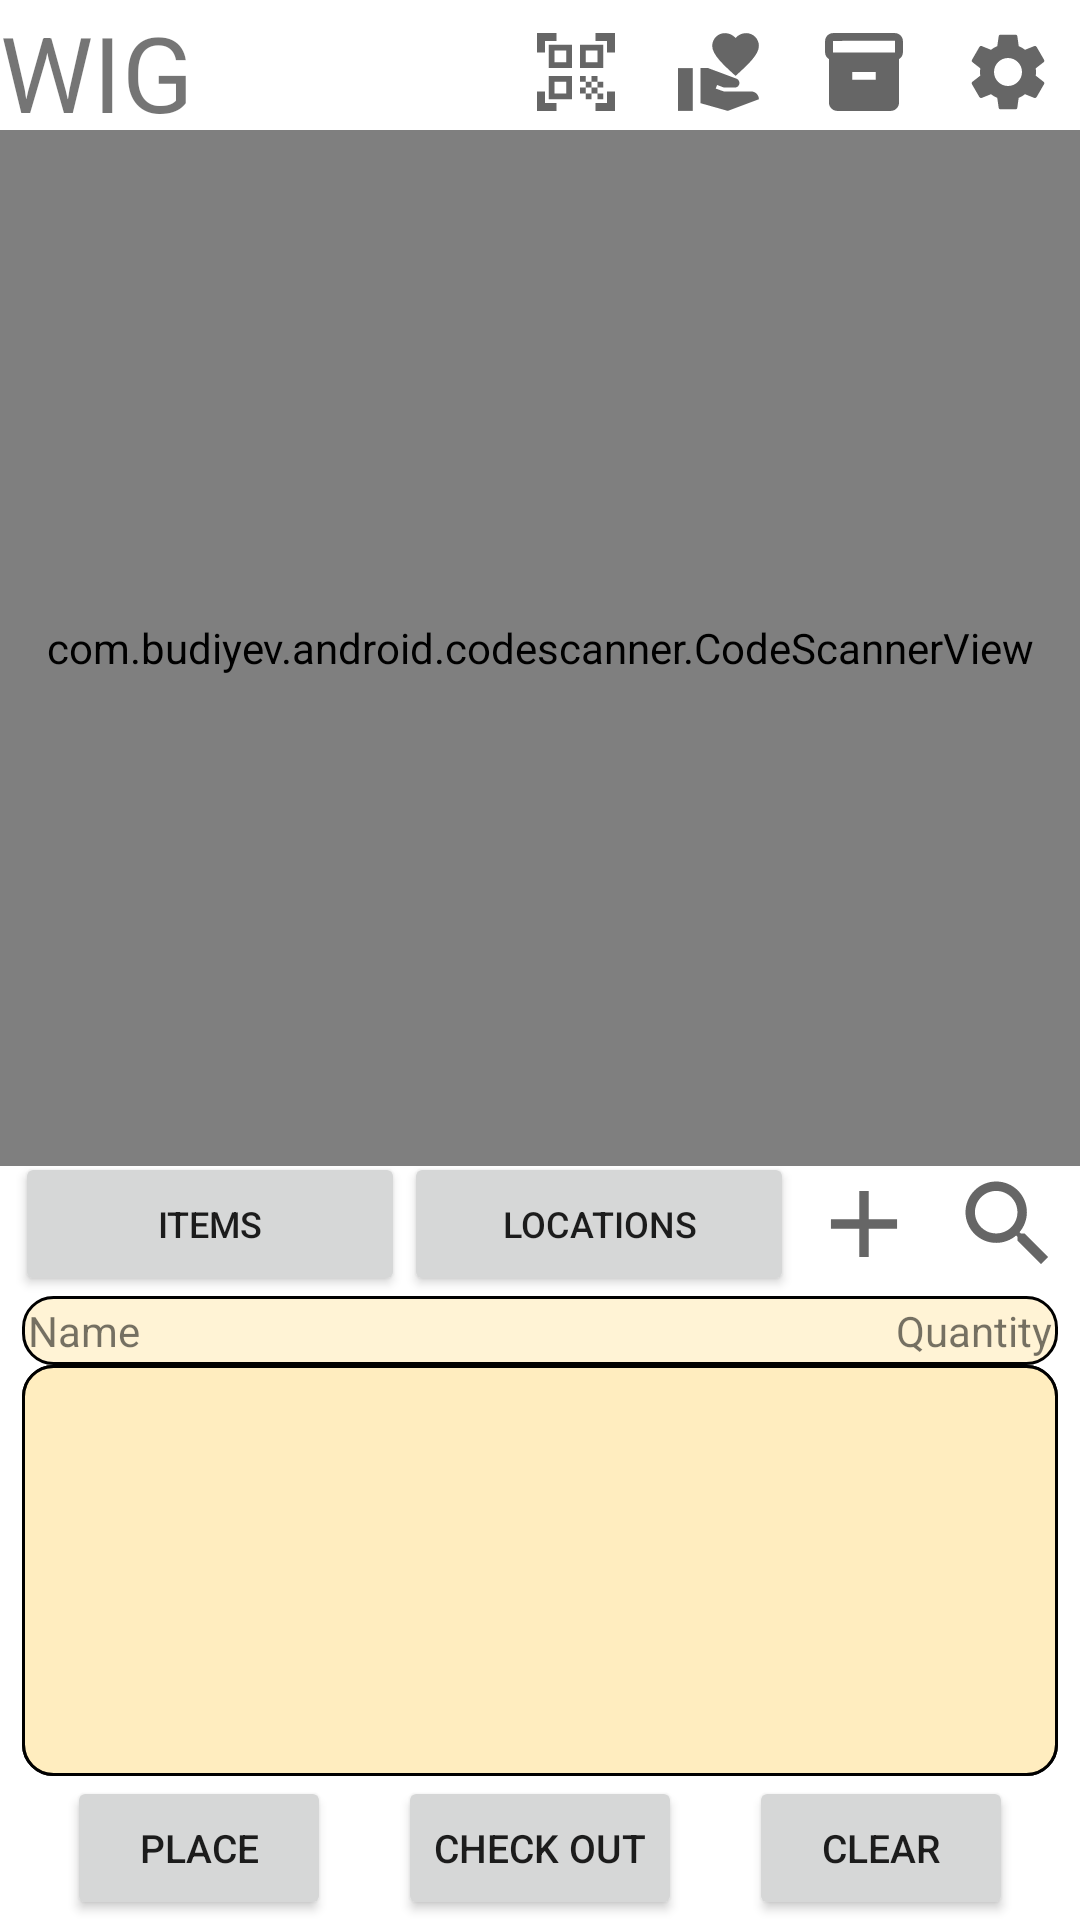

Screen size 1080 × 1920. Icon name, then its center in pixels as point (x, y):
Add New: point (864, 1224)
Borrowed Items: point (720, 72)
Manage Inventory: point (864, 72)
Search: point (1008, 1224)
Settings: point (1008, 72)
